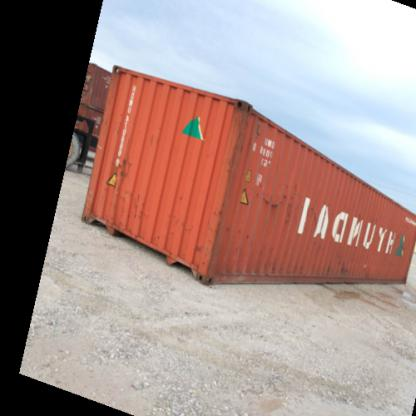Damage: (225, 100, 261, 184), (252, 180, 302, 225), (107, 184, 149, 218), (321, 253, 356, 277), (217, 215, 245, 242), (351, 204, 380, 228), (162, 211, 191, 234), (110, 152, 132, 178), (192, 240, 206, 260), (310, 207, 322, 225)
